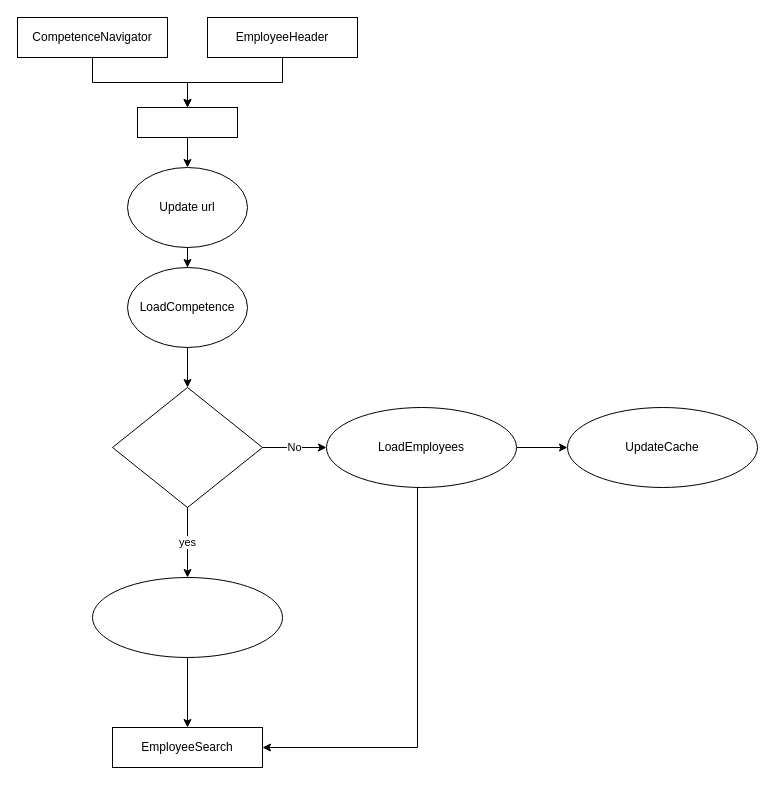
Image size: 775x785. Some labels were removed from this diagram. Here are the shapes that lost their labels. From the top down, the centre of each, then its label:
At point 187,122: "navigate".
At point 187,447: "Are employees loaded for competence?".
At point 187,617: "LoadEmployeesFromCache".
